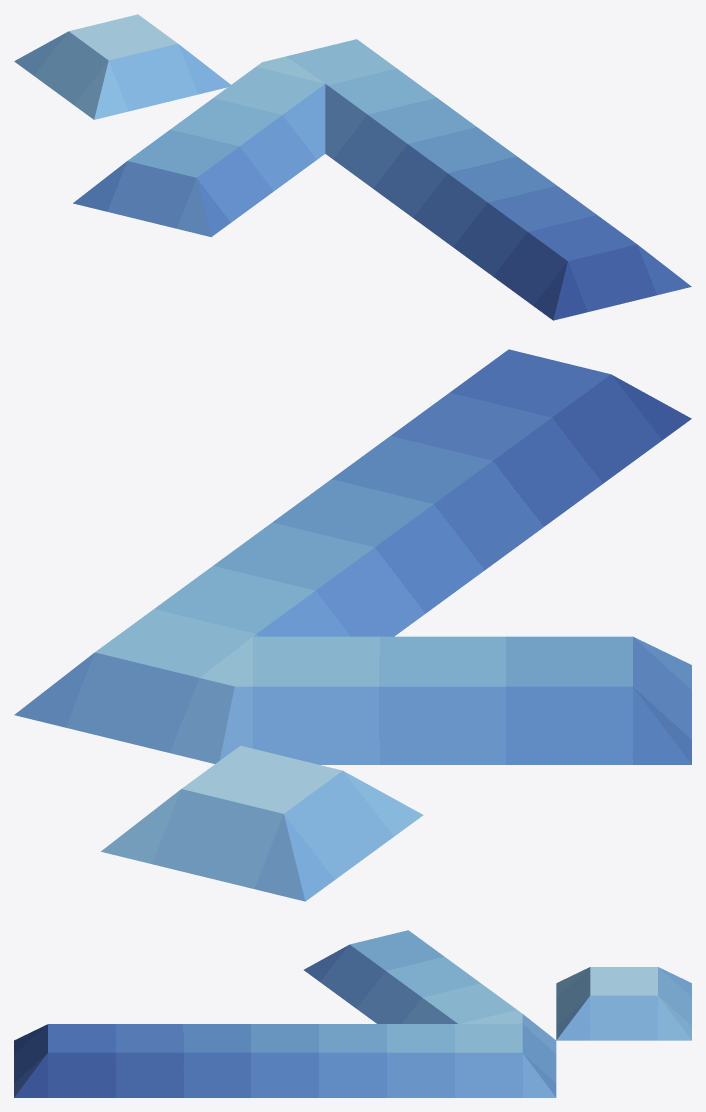
File: rune_style_n.obj
The picture shows the model from 3 angles, top to bottom: view 1: azimuth 30°, elevation 25°; view 2: azimuth 150°, elevation 25°; view 3: azimuth 270°, elevation 25°; orthographic projection. The views are drawn at different scales.
Parts seen in each view (by area): view 1: RUNE_STYLE_N_Plane.020; view 2: RUNE_STYLE_N_Plane.020; view 3: RUNE_STYLE_N_Plane.020.
Boxes of the visible parts, x1,y1,x2,y2 form: RUNE_STYLE_N_Plane.020: [14, 14, 691, 320]; RUNE_STYLE_N_Plane.020: [14, 349, 691, 901]; RUNE_STYLE_N_Plane.020: [14, 930, 691, 1097].
Bounding box in the file's own units: 0.3415 × 0.0312 × 0.625.
